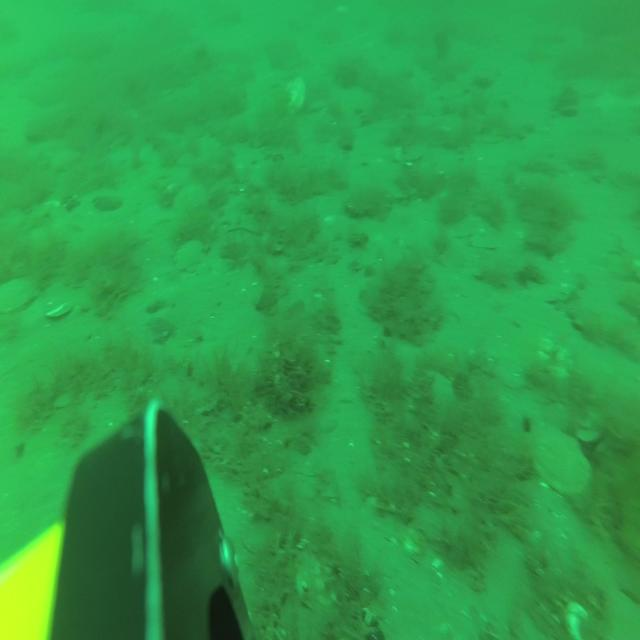scallop: (534, 420, 592, 494), (536, 335, 574, 387), (0, 274, 38, 316), (177, 239, 203, 273), (284, 77, 306, 115)
